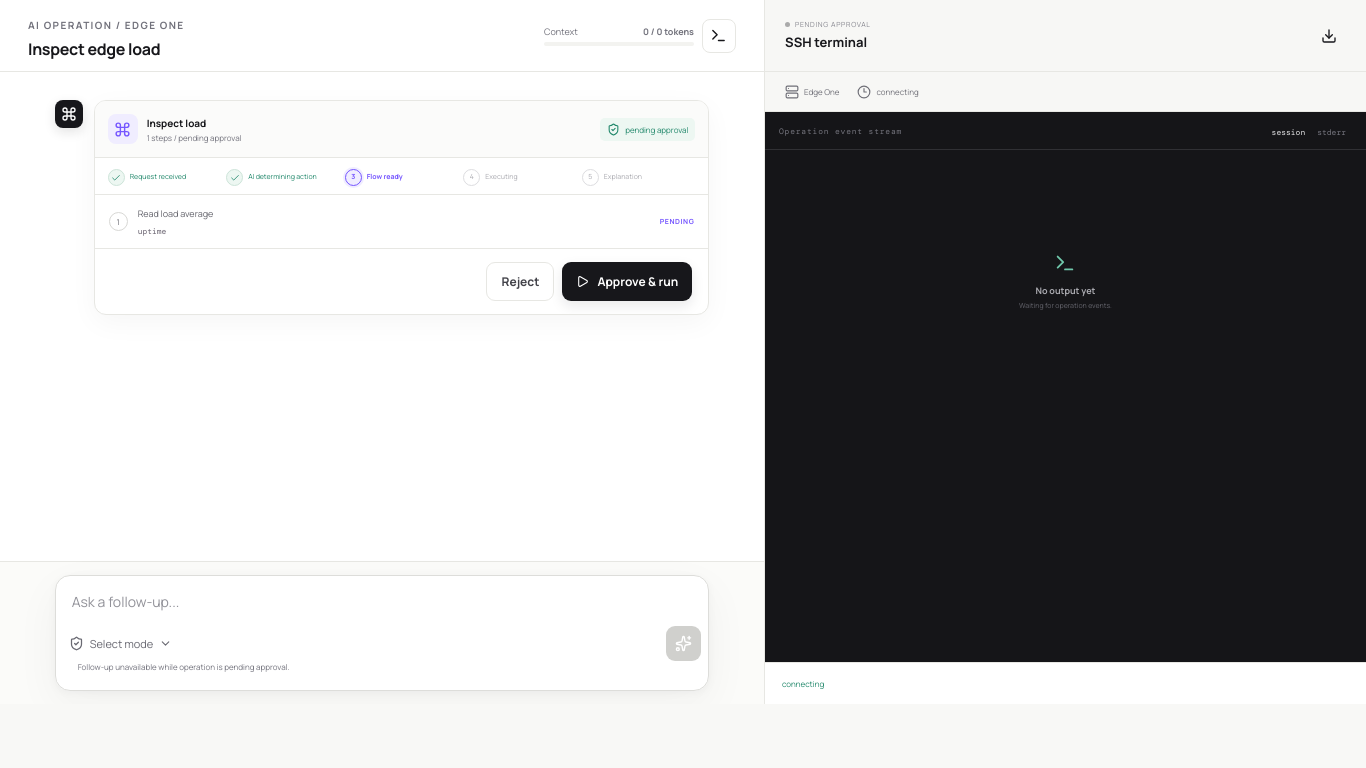
Scenario: real chat workspace › toggles terminal preview minimize in thread page
Check: the heading "SSH terminal" is shown, box [785,33,871,51]
Click the button named "Minimize terminal".
click(719, 36)  # box [702,18,736,52]
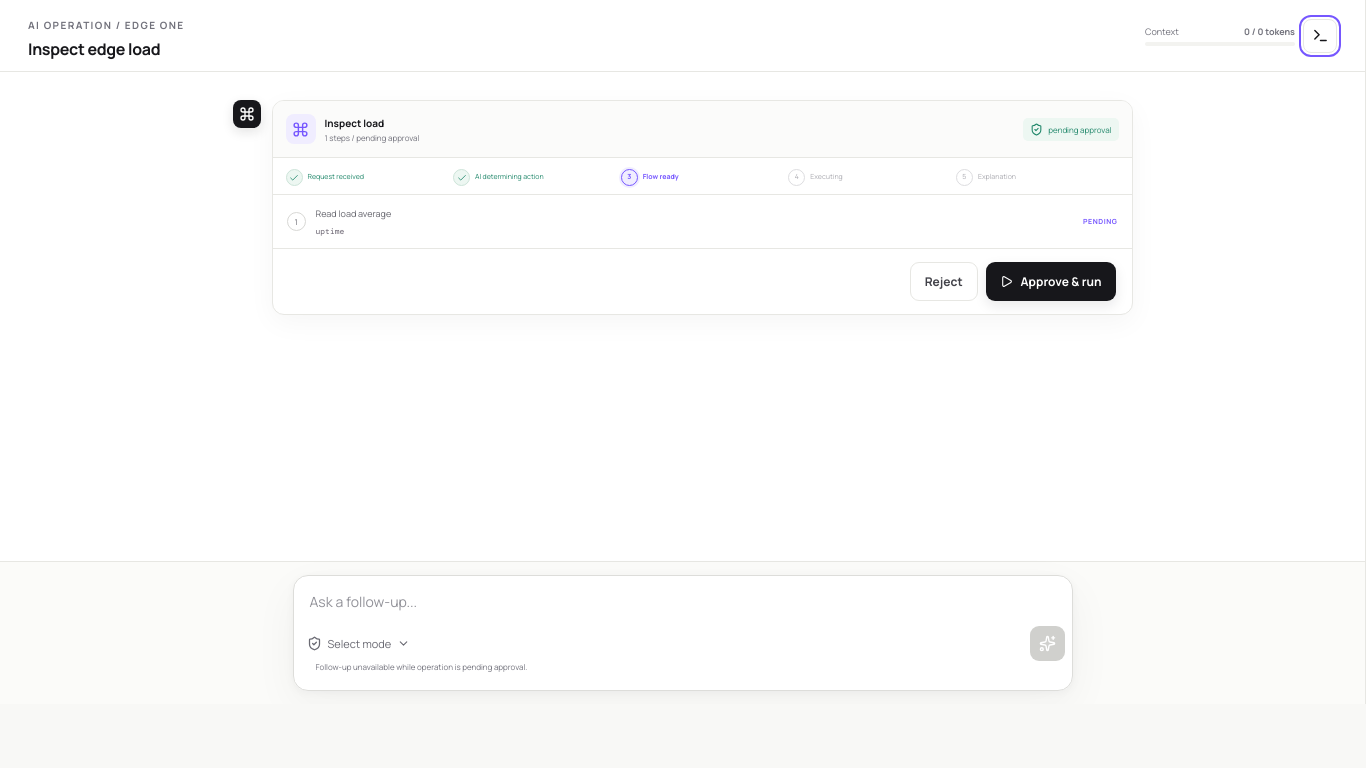
Check: the heading "SSH terminal" is gone
Click the button named "Show terminal".
click(1320, 36)  # box [1303,18,1337,52]
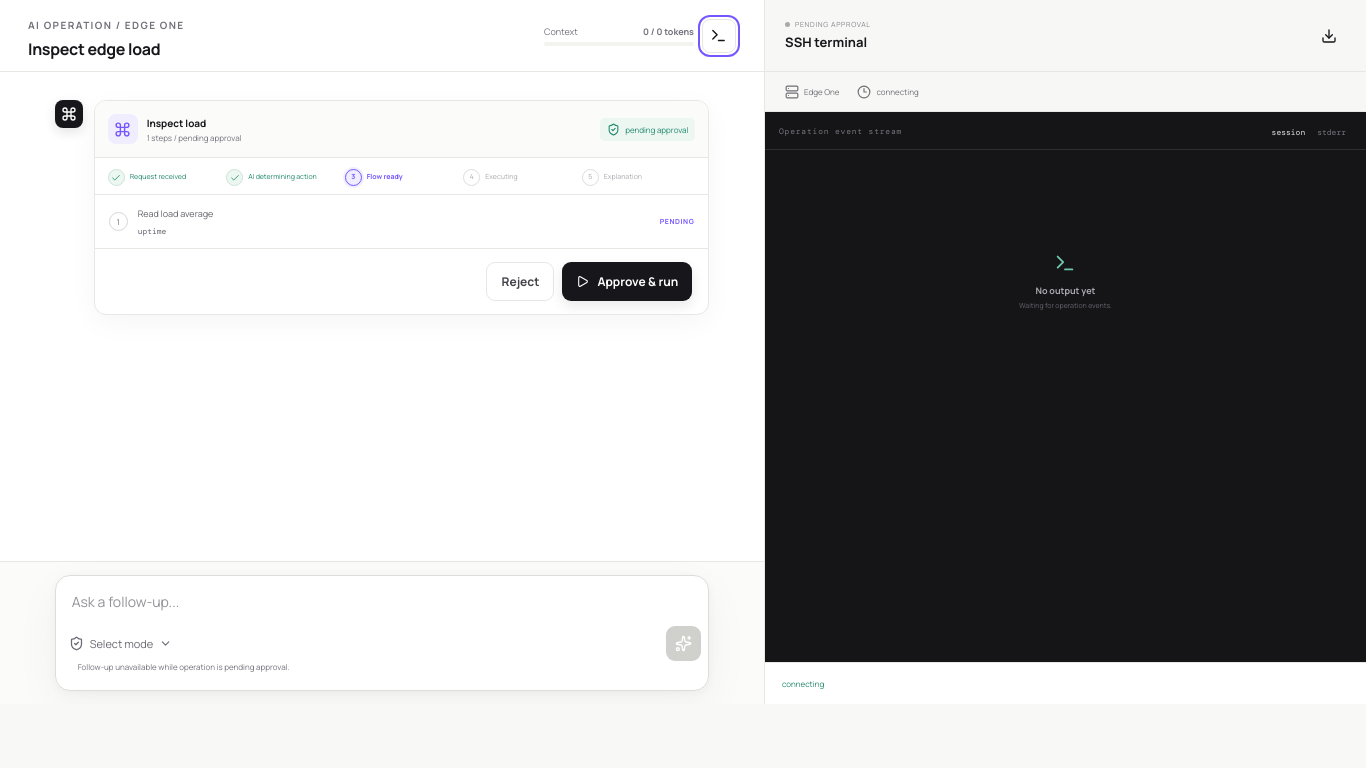
Check: the heading "SSH terminal" is shown, box [785,33,871,51]
